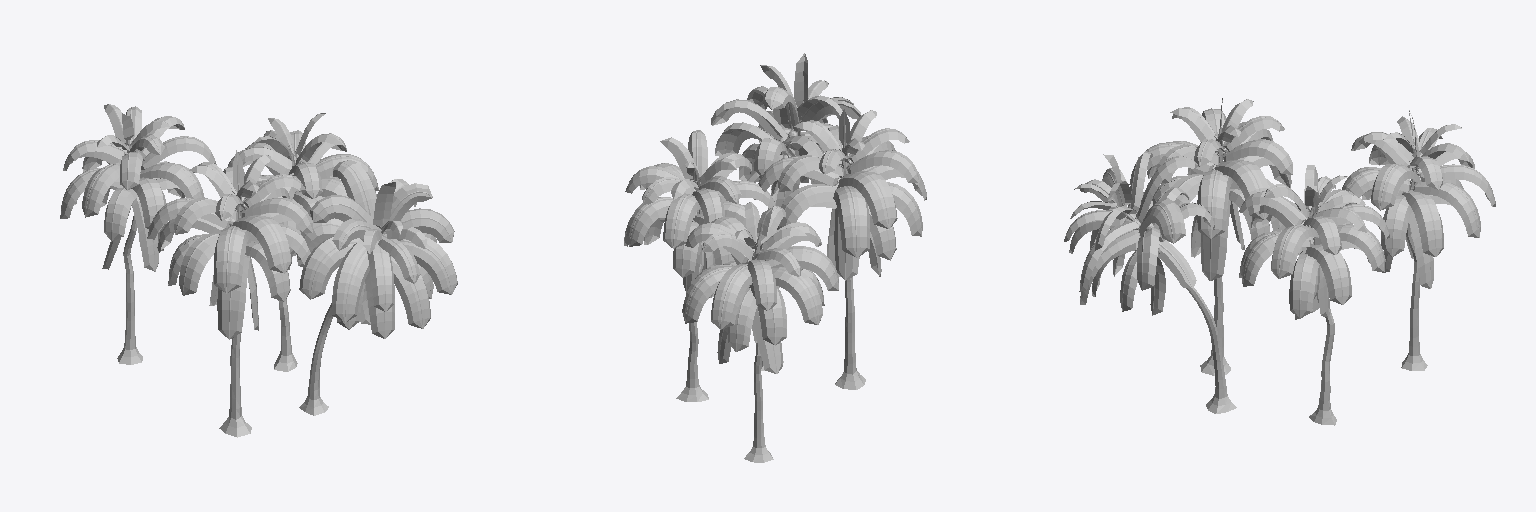
The model's file is CoconutTress.obj.
3 views of the same model, side by side, from view 1: azimuth 30°, elevation 25°; view 2: azimuth 150°, elevation 25°; view 3: azimuth 270°, elevation 25° (orthographic).
Visible parts, largest first — view 1: Coconut_02, Coconut_01, Coconut_04, Coconut_03; view 2: Coconut_04, Coconut_01, Coconut_03, Coconut_02; view 3: Coconut_02, Coconut_03, Coconut_04, Coconut_01.
Boxes of the visible parts, x1,y1,x2,y2 form: Coconut_02: [296, 160, 457, 415]; Coconut_01: [147, 150, 312, 437]; Coconut_04: [60, 104, 216, 364]; Coconut_03: [227, 113, 378, 371]; Coconut_04: [682, 202, 838, 462]; Coconut_01: [754, 109, 926, 389]; Coconut_03: [624, 130, 775, 401]; Coconut_02: [711, 53, 861, 370]; Coconut_02: [1064, 151, 1236, 413]; Coconut_03: [1239, 165, 1389, 425]; Coconut_04: [1342, 110, 1495, 370]; Coconut_01: [1129, 98, 1292, 375].
Size of the model in its own units: 400 by 428 by 608.